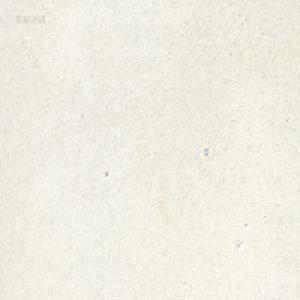Washer: (203, 147, 208, 156)
